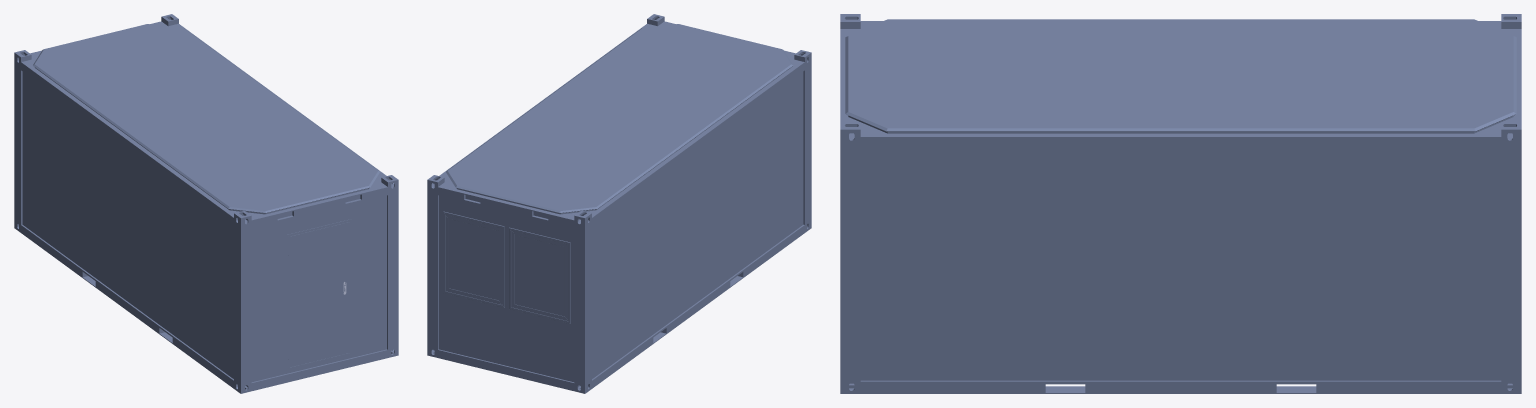
Rendered from Büro stirnseitig HC 2600 BC 2430.obj.
3 views of the same model, side by side, from view 1: azimuth 30°, elevation 25°; view 2: azimuth 150°, elevation 25°; view 3: azimuth 270°, elevation 25° (orthographic). The views are drawn at different scales.
Visible parts, largest first — view 1: |CONT-111-V2~0|Root|color, |CONT-111-V2~0|Root|color-2; view 2: |CONT-111-V2~0|Root|color, |CONT-111-V2~0|Root|color-2; view 3: |CONT-111-V2~0|Root|color.
Part boxes in pixels (bbox=[...]): |CONT-111-V2~0|Root|color: bbox=[14, 14, 398, 393]; |CONT-111-V2~0|Root|color-2: bbox=[286, 219, 351, 370]; |CONT-111-V2~0|Root|color: bbox=[427, 14, 811, 393]; |CONT-111-V2~0|Root|color-2: bbox=[443, 211, 570, 323]; |CONT-111-V2~0|Root|color: bbox=[840, 14, 1521, 393].
Bounding box in the file's own units: 2.43 × 2.59 × 6.05.
